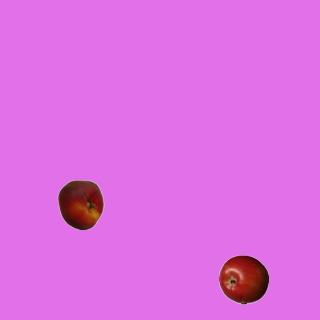Apple Braeburn: (218, 254, 268, 304)
Nectarine Flat: (55, 179, 105, 229)
